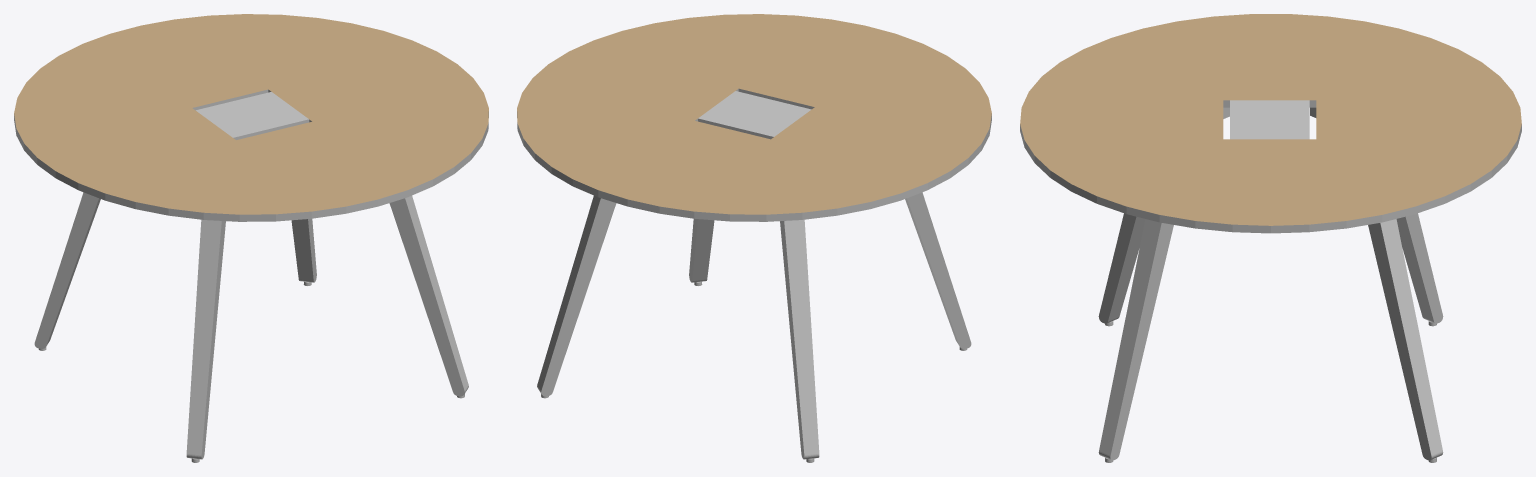
The model's file is meeting_table.dae.
The picture shows the model from 3 angles, left to right: view 1: azimuth 30°, elevation 25°; view 2: azimuth 150°, elevation 25°; view 3: azimuth 270°, elevation 25°; orthographic projection. The views are drawn at different scales.
Parts seen in each view (by area): view 1: wood (×3), foot, huta; view 2: wood (×3), foot, huta; view 3: wood (×2), foot, huta.
Part boxes in pixels (<box>): wood (×3): <box>14,14,488,221</box>; foot: <box>34,192,468,462</box>; huta: <box>196,92,308,137</box>; wood (×3): <box>517,14,991,221</box>; foot: <box>537,192,971,462</box>; huta: <box>698,91,811,136</box>; wood (×2): <box>1020,14,1521,233</box>; foot: <box>1098,107,1443,462</box>; huta: <box>1230,100,1309,139</box>.
Bounding box in the file's own units: 47.26 × 47.3 × 28.4.
